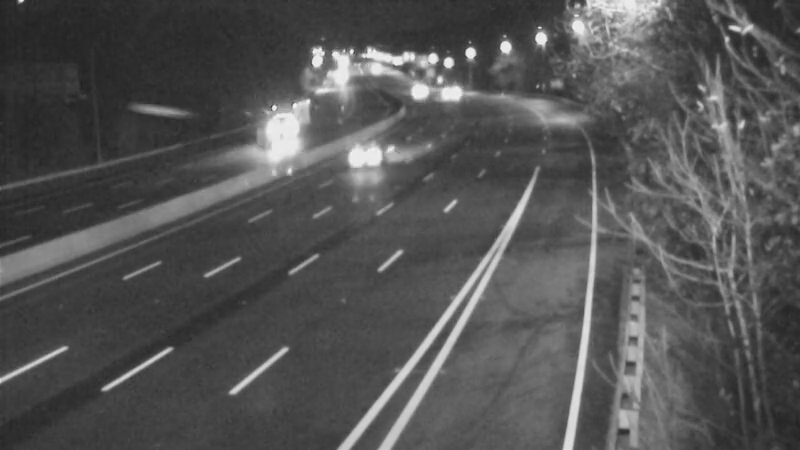vehicle: (325, 113, 405, 193), (391, 67, 441, 117), (422, 68, 472, 118), (255, 106, 305, 156)
